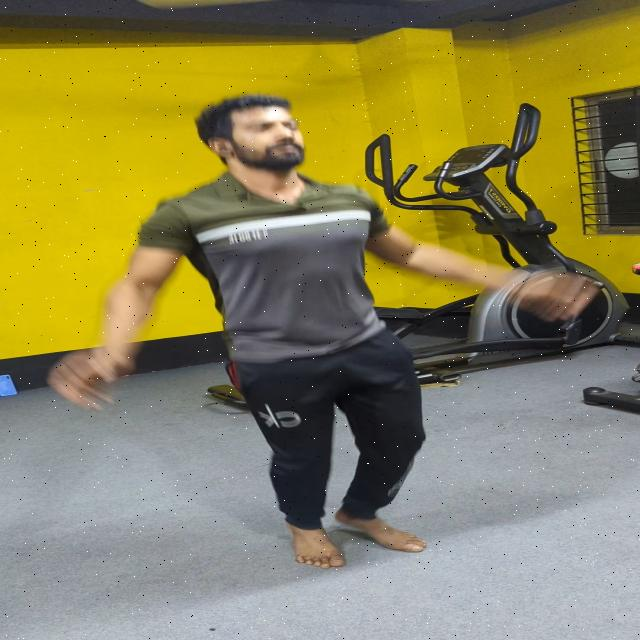Normal_JumpingJacks: (0, 49, 567, 633)
